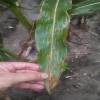Corn leaf blight: (34, 0, 75, 95)
